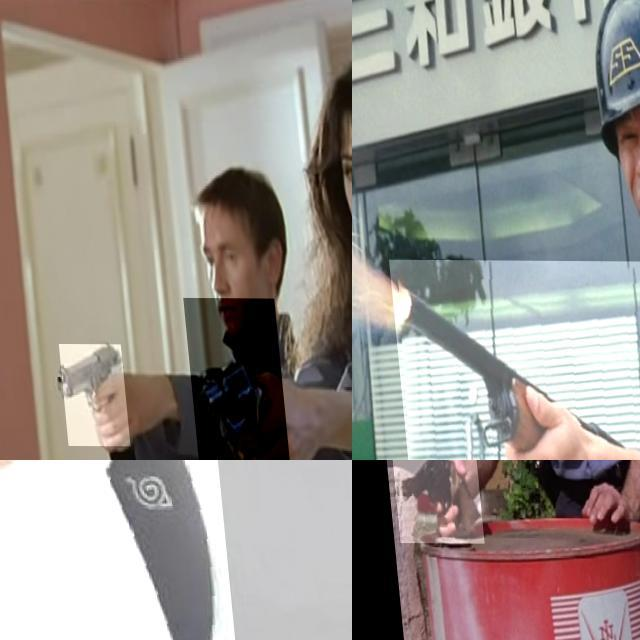-: (0, 460, 228, 640)
gun-knife-thesis - v11 Yolov5 augmented: (381, 259, 640, 460), (176, 297, 280, 460), (380, 460, 473, 543), (52, 344, 122, 446)
